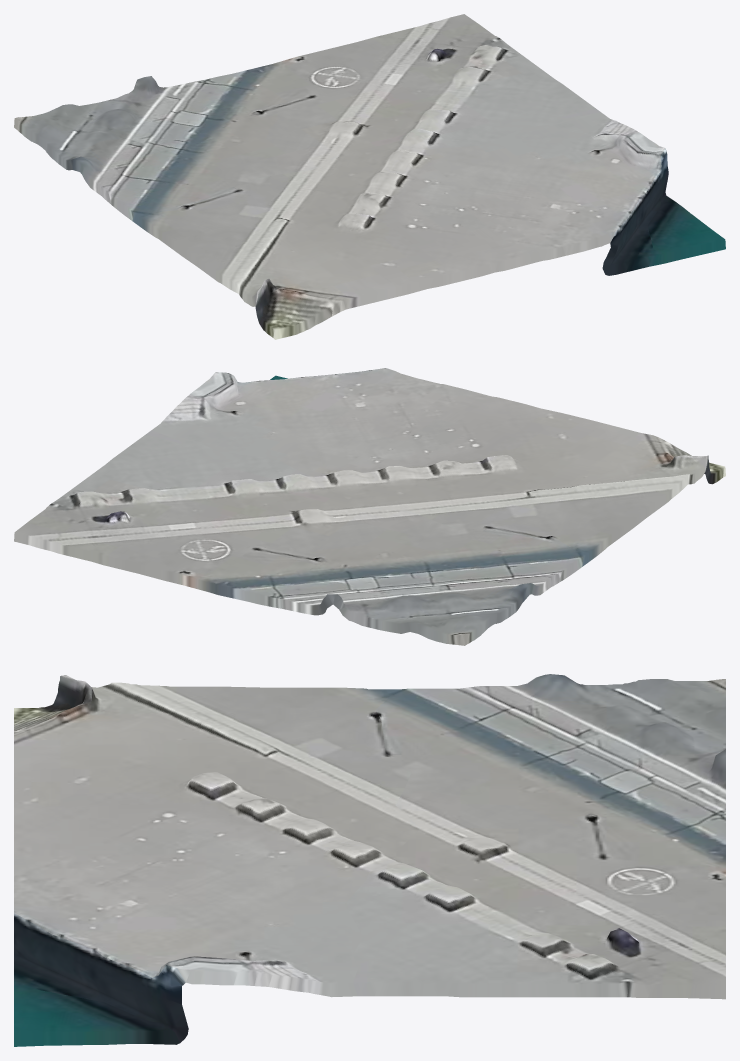
Rendered from z20-167795-405227-h0-yup-uvflip-v3-world.glb.
3 views of the same model, one above another, from view 1: azimuth 30°, elevation 25°; view 2: azimuth 150°, elevation 25°; view 3: azimuth 270°, elevation 25° (orthographic). The views are drawn at different scales.
Size of the model in its own units: 30.24 by 3.8 by 30.32.
Materials: 1 (1 with a texture image).
